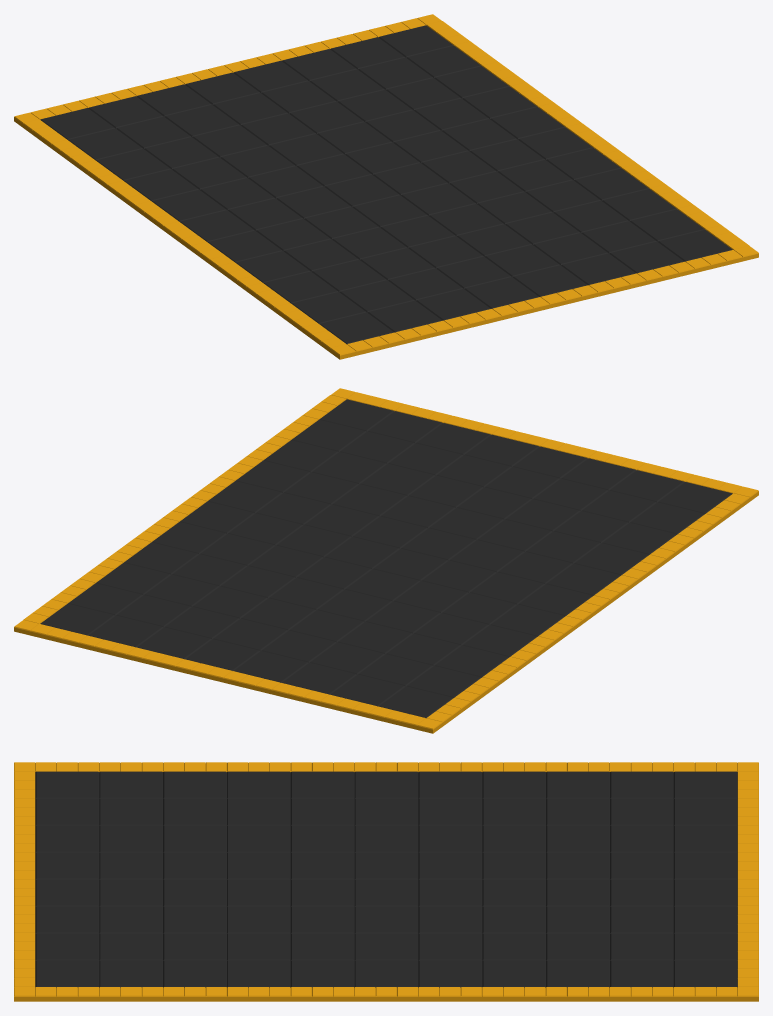
The model's file is floor.FBX.
The picture shows the model from 3 angles, top to bottom: view 1: azimuth 30°, elevation 25°; view 2: azimuth 150°, elevation 25°; view 3: azimuth 270°, elevation 25°; orthographic projection. The views are drawn at different scales.
Visible parts, largest first — view 1: tile014; view 2: tile014; view 3: tile014.
Boxes of the visible parts, bbox=[...] form: tile014: bbox=[14, 14, 758, 359]; tile014: bbox=[14, 388, 758, 733]; tile014: bbox=[14, 762, 758, 1001].
Bounding box in the file's own units: 867 × 1167 × 10.
